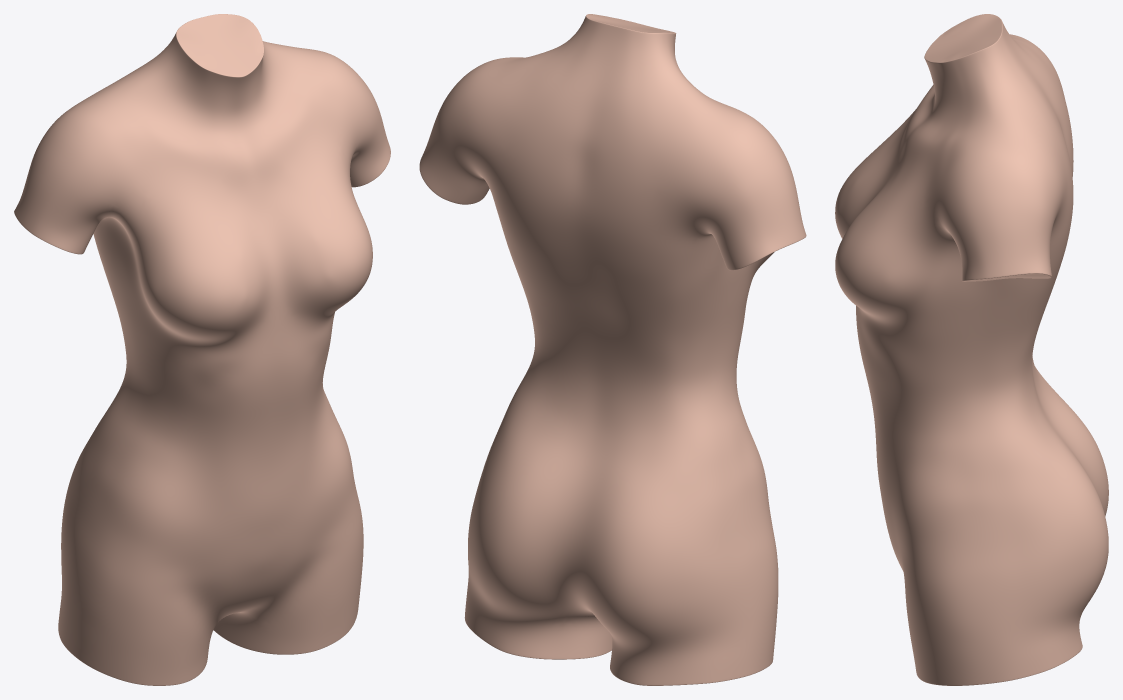
The model's file is fem-torso-transLights.glb.
3 views of the same model, side by side, from view 1: azimuth 30°, elevation 25°; view 2: azimuth 150°, elevation 25°; view 3: azimuth 270°, elevation 25° (orthographic). The views are drawn at different scales.
Parts seen in each view (by area): view 1: 11542_femaletorso_v2; view 2: 11542_femaletorso_v2; view 3: 11542_femaletorso_v2.
Part boxes in pixels (x1,y1,x2,y2): 11542_femaletorso_v2: (14,14,390,685); 11542_femaletorso_v2: (419,14,806,685); 11542_femaletorso_v2: (835,14,1108,685).
Size of the model in its own units: 9.88 by 16.25 by 6.58.
